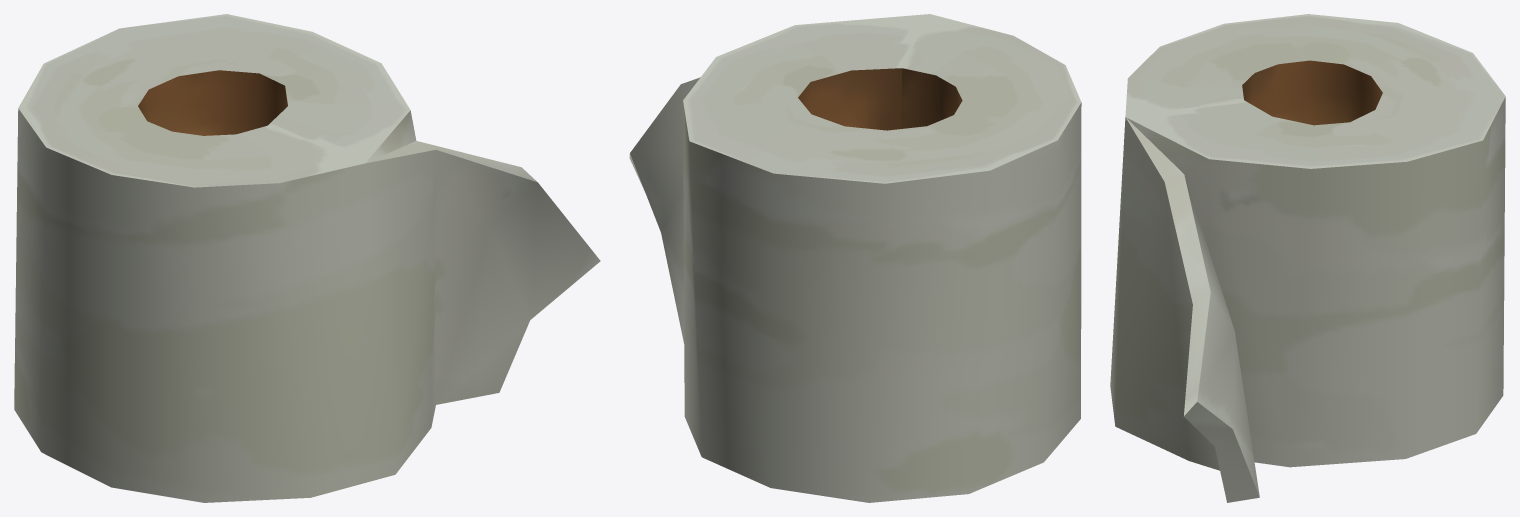
File: SM_PROP_toiletpaper_interior_02.fbx
3 renders of one model, left to right at view 1: azimuth 30°, elevation 25°; view 2: azimuth 150°, elevation 25°; view 3: azimuth 270°, elevation 25°, orthographic. The views are drawn at different scales.
Parts seen in each view (by area): view 1: SM_PROP_toiletpaper_interior_02; view 2: SM_PROP_toiletpaper_interior_02; view 3: SM_PROP_toiletpaper_interior_02.
Boxes of the visible parts, x1,y1,x2,y2 form: SM_PROP_toiletpaper_interior_02: (14, 14, 600, 502); SM_PROP_toiletpaper_interior_02: (629, 14, 1081, 502); SM_PROP_toiletpaper_interior_02: (1110, 14, 1505, 502).
Bounding box in the file's own units: 30.04 × 18.7 × 22.14.
